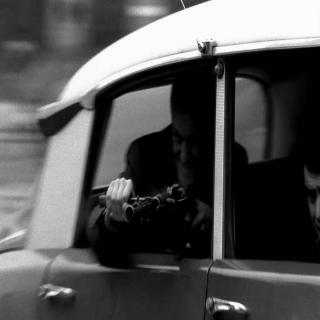gun: (97, 182, 188, 220)
